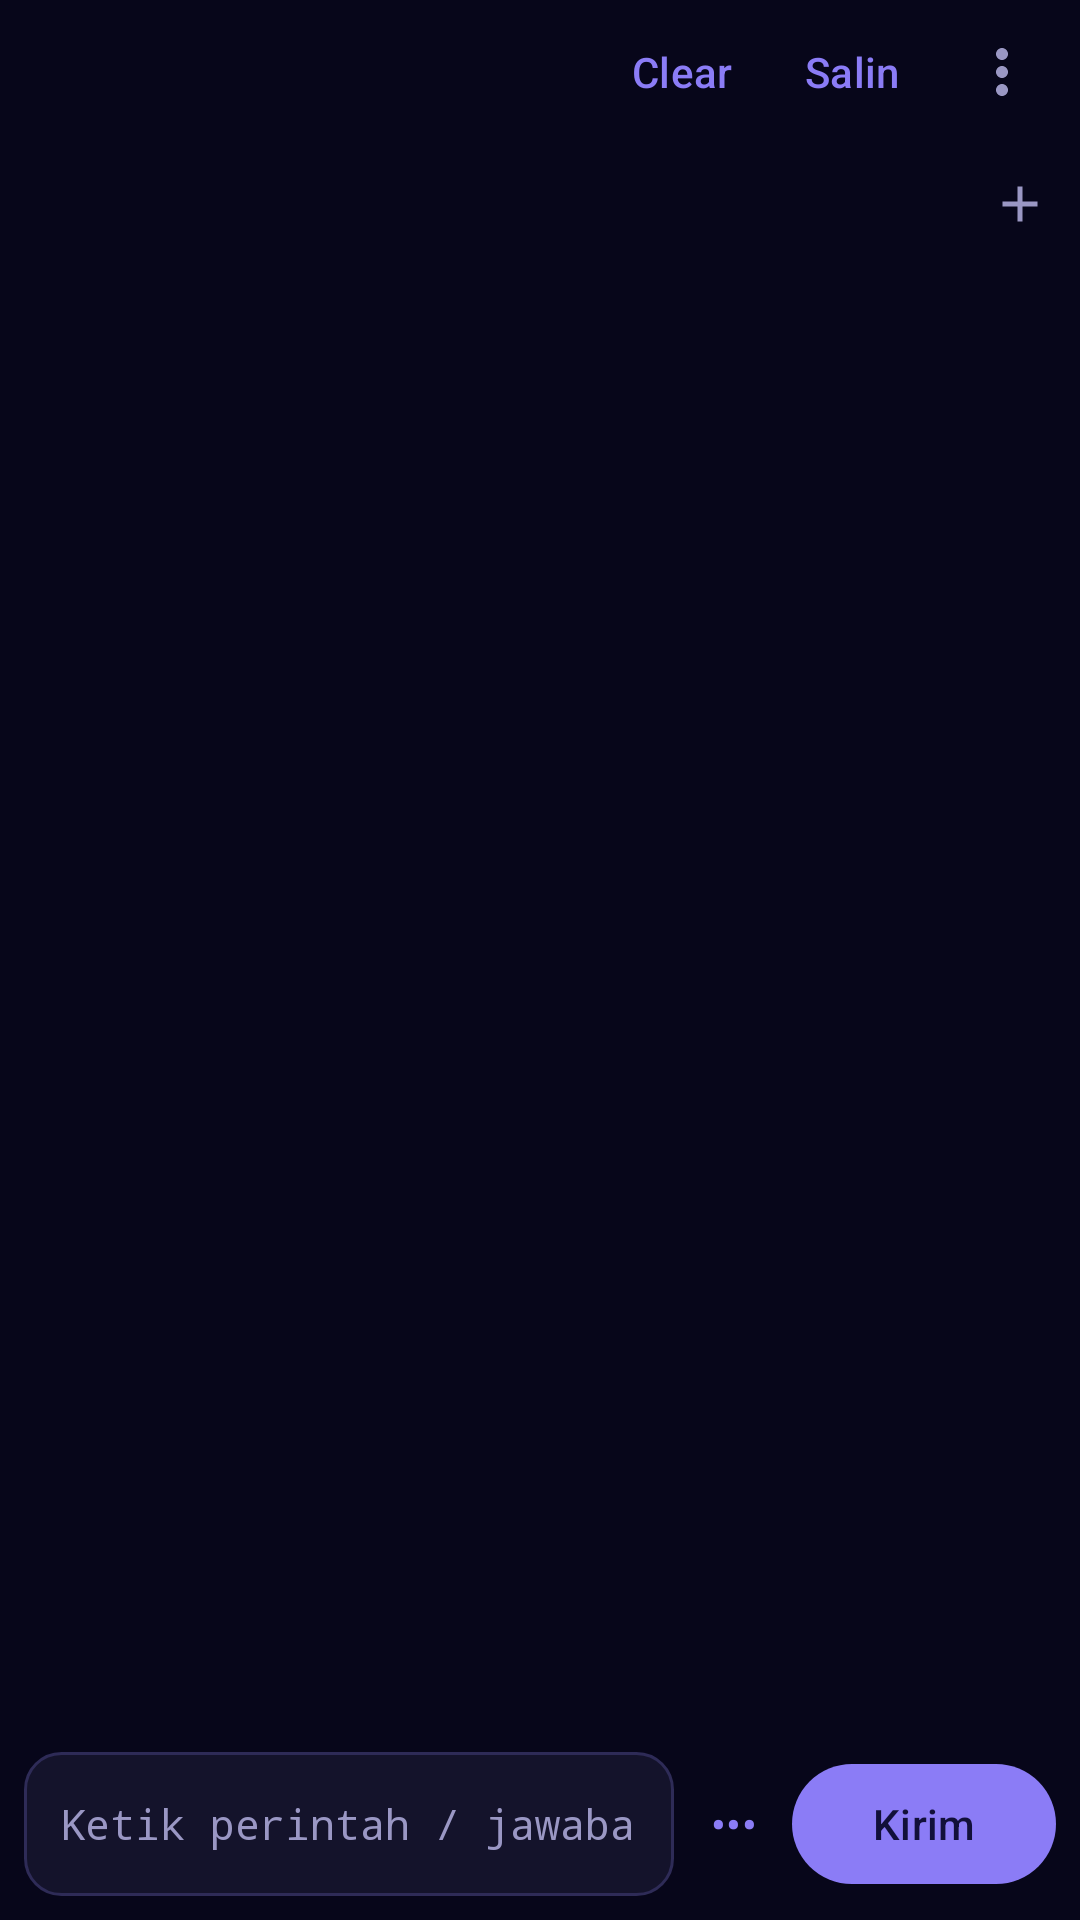

Where to tap for icons on this 1080 x 1920 app screen, as [x,y]:
Menu: [1002,72]
Tab baru: [1020,204]
